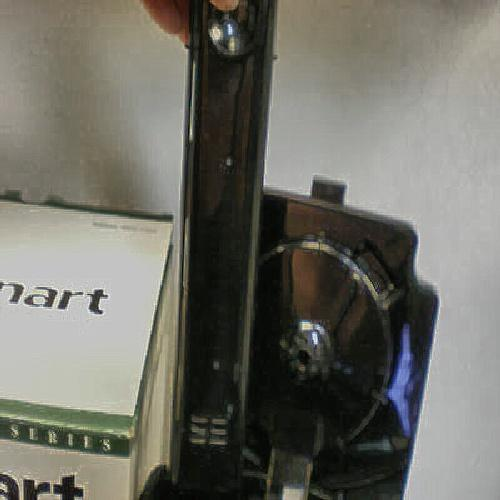coffee_maker: (192, 39, 442, 472)
